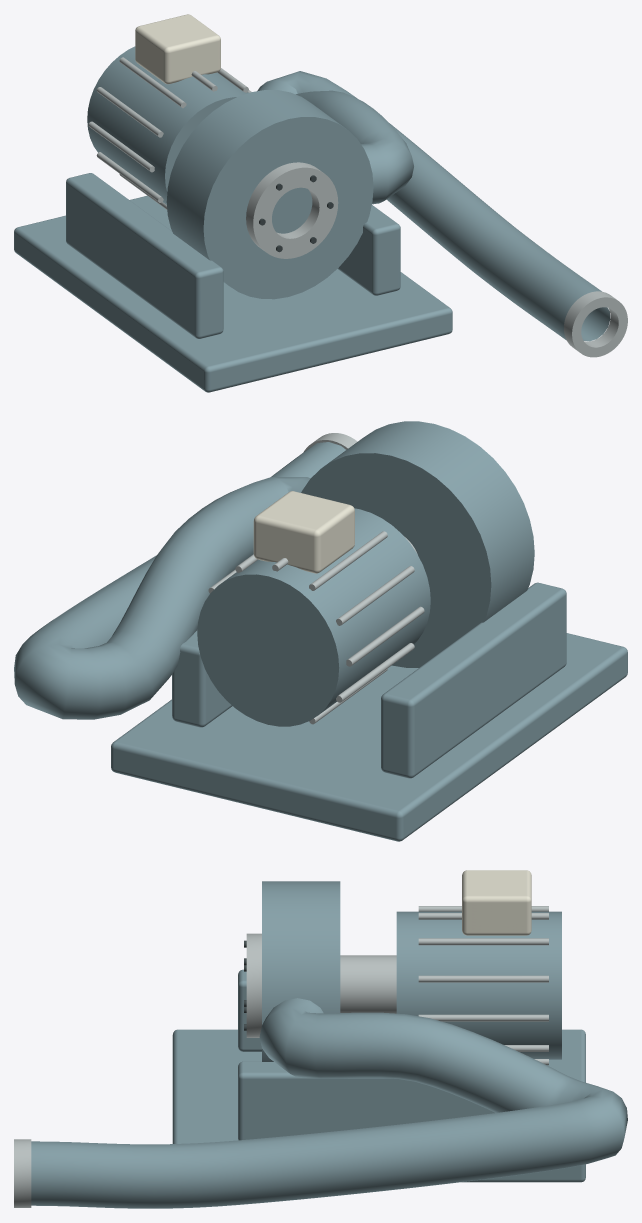
The model's file is abandoned-tidal-model-testing-hall-recirculation-pump-a3713344__32345.glb.
The picture shows the model from 3 angles, top to bottom: view 1: azimuth 30°, elevation 25°; view 2: azimuth 150°, elevation 25°; view 3: azimuth 270°, elevation 25°; orthographic projection. The views are drawn at different scales.
Visible parts, largest first — view 1: recirculation-pump; view 2: recirculation-pump; view 3: recirculation-pump.
Part boxes in pixels (<box>): recirculation-pump: <box>14,14,627,392</box>; recirculation-pump: <box>14,421,627,841</box>; recirculation-pump: <box>14,870,627,1208</box>.
Size of the model in its own units: 0.979 by 0.6 by 1.41.
